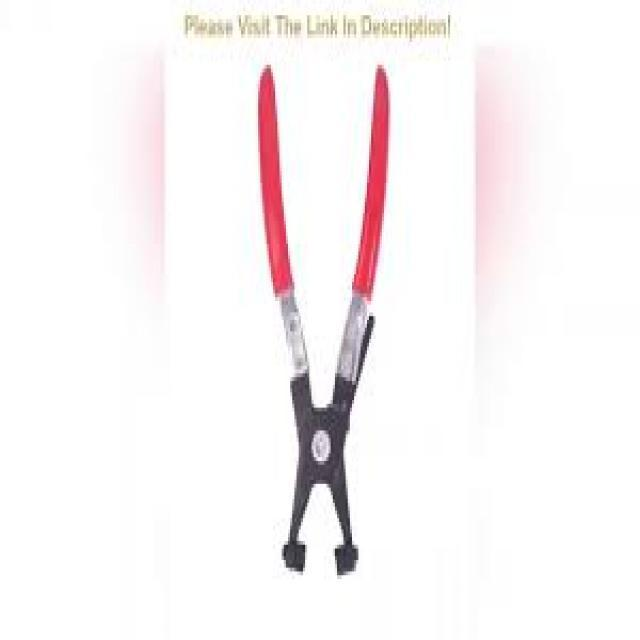pliers: (244, 43, 396, 586)
